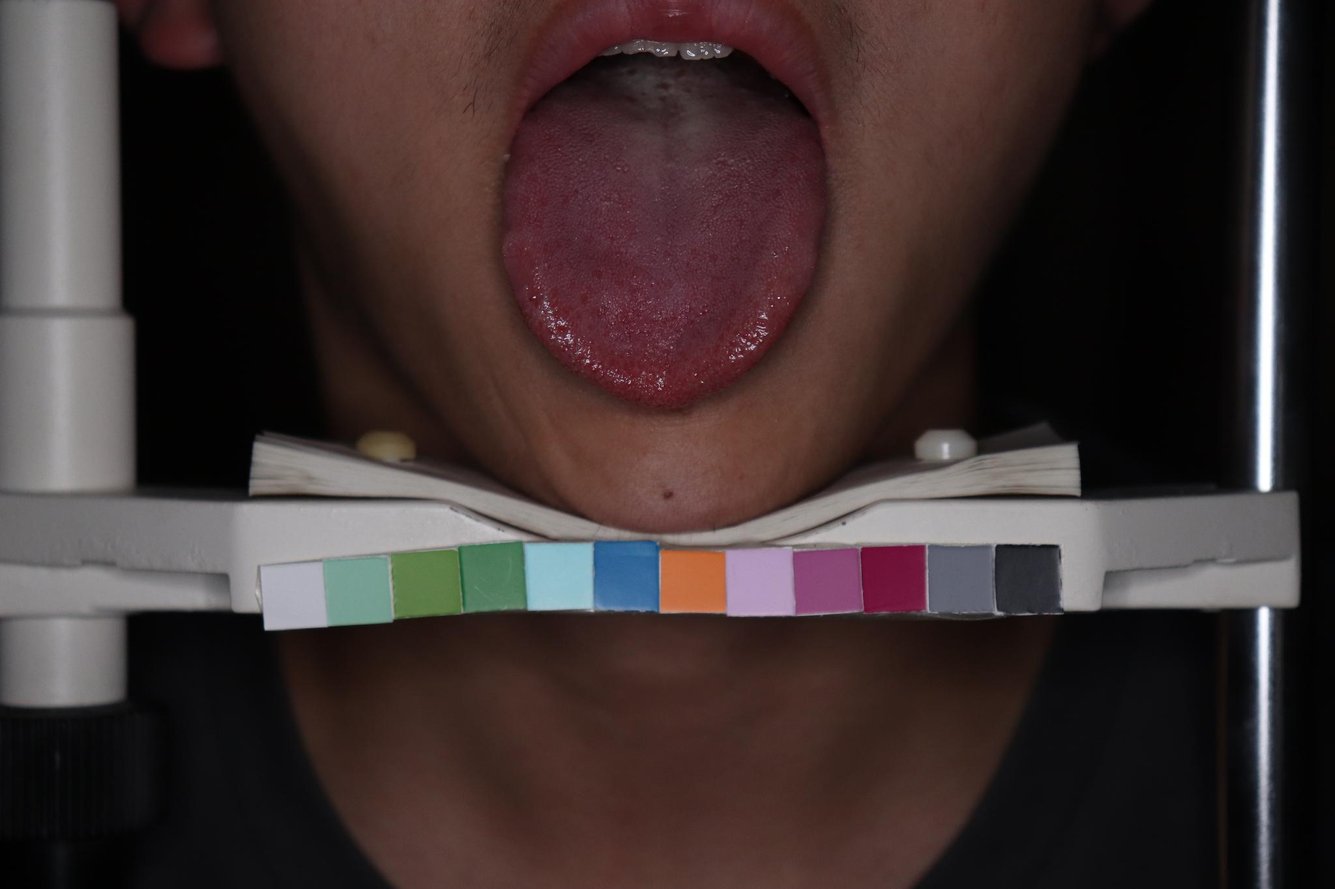baitaishe: (500, 47, 826, 406)
hongdianshe: (554, 324, 567, 336)
hongshe: (500, 47, 826, 406)
